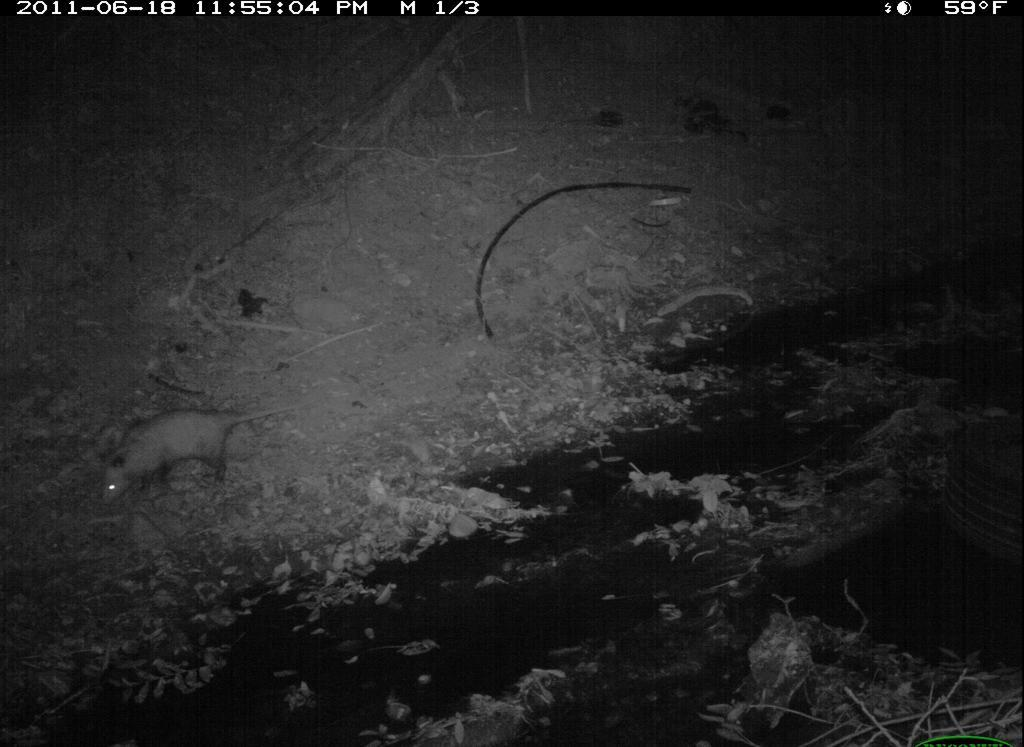opossum: (95, 401, 295, 510)
